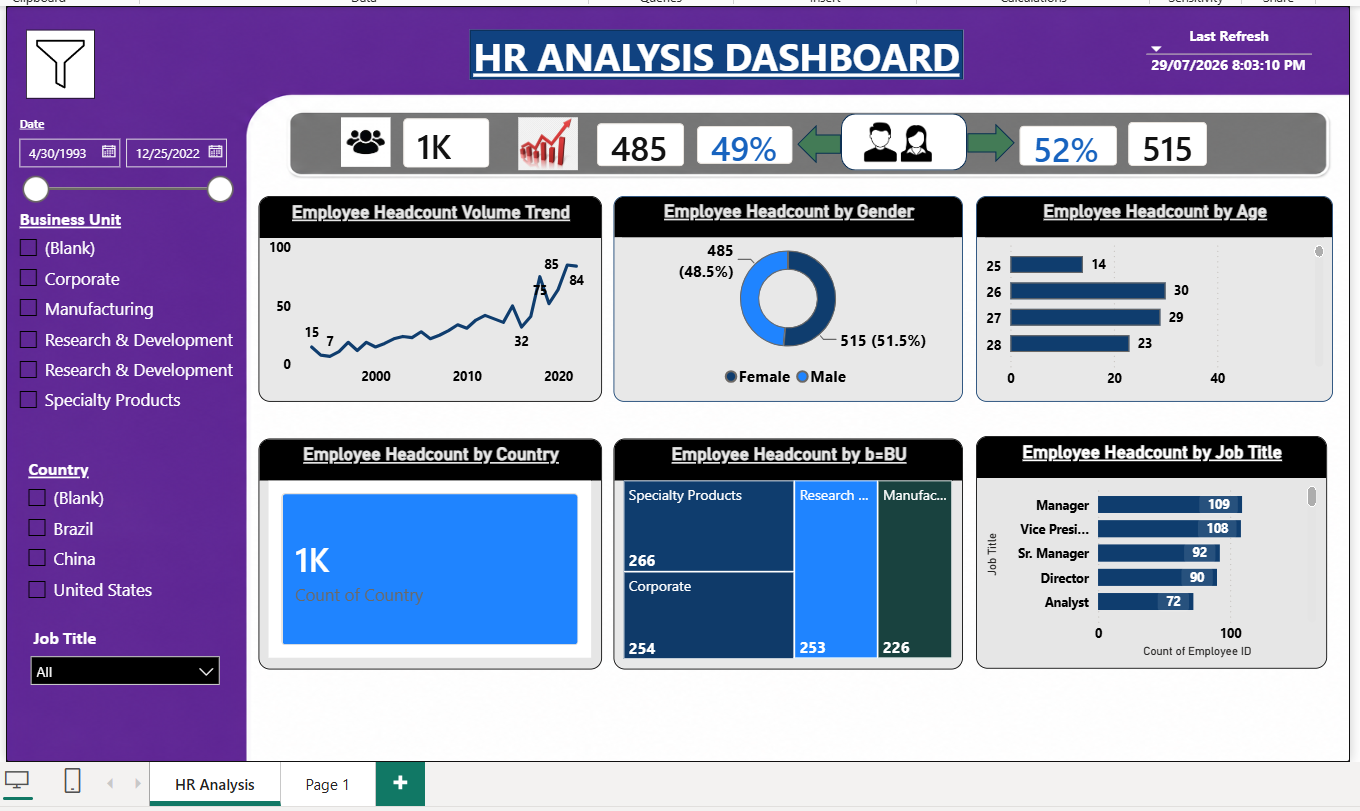

What the dashboard file says about the page in this screenshot:
{"tool":"powerbi","page":{"name":"HR Analysis","canvas":[1280,720],"ordinal":0},"visuals":[{"type":"cardVisual","fields":{"Data":["Employee Data.Total_count"]},"box":[365.7,94.3,108.6,72.9],"z":0},{"type":"image","box":[318.6,98.6,47.1,61.4],"z":1000},{"type":"lineChart","title":"Employee Headcount Volume Trend","fields":{"Category":["Employee Data.Hire Date.Variation.Date Hierarchy.Year"],"Y":["CountNonNull(Employee Data.Employee ID)"]},"box":[240,181.4,327.1,195.7],"z":2000},{"type":"donutChart","title":"Employee Headcount by Gender","fields":{"Category":["Employee Data.Gender"],"Y":["CountNonNull(Employee Data.Employee ID)"]},"box":[578.6,181.4,332.9,195.7],"z":3000},{"type":"clusteredBarChart","title":"Employee Headcount by Age","fields":{"Category":["Employee Data.Age"],"Y":["CountNonNull(Employee Data.Employee ID)"]},"box":[924.3,181.4,340,195.7],"z":4000},{"type":"treemap","title":"Employee Headcount by b=BU","fields":{"Group":["Employee Data.Business Unit"],"Values":["CountNonNull(Employee Data.Employee ID)"]},"box":[578.6,411.4,332.9,220],"z":5000},{"type":"cardVisual","title":"Employee Headcount by Country","fields":{"Data":["CountNonNull(Employee Data.Country)"]},"box":[240,411.4,327.1,220],"z":6000},{"type":"clusteredBarChart","title":"Employee Headcount by Job Title","fields":{"Category":["Employee Data.Job Title"],"Y":["CountNonNull(Employee Data.Employee ID)"]},"box":[924.3,410,334.3,221.4],"z":7000},{"type":"shape","box":[795.7,102.9,120,54.3],"z":8000},{"type":"image","box":[812.9,102.9,72.9,54.3],"z":9000},{"type":"cardVisual","fields":{"Data":["Employee Data.Total_Male_count"]},"box":[550,98.6,109.5,66.7],"z":10000},{"type":"cardVisual","fields":{"Data":["Employee Data.Total_Female_count"]},"box":[1056,97.6,101.8,67.3],"z":11000},{"type":"cardVisual","fields":{"Data":["Employee Data.Male%"]},"box":[645.2,100,117.5,62.5],"z":12000},{"type":"cardVisual","fields":{"Data":["Employee Data.Female%"]},"box":[952.4,101.2,119,63.1],"z":13000},{"type":"shape","box":[441.4,22.9,470,47.5],"z":14000},{"type":"image","box":[465.7,105.7,101.4,50],"z":15000},{"type":"shape","box":[753.6,113.1,41.7,36.9],"z":16000},{"type":"shape","box":[915.5,111.9,45.2,36.9],"z":17000},{"type":"slicer","fields":{"Values":["Employee Data.Business Unit"]},"box":[0,186.9,229.8,225],"z":18000},{"type":"slicer","fields":{"Values":["Employee Data.Job Title"]},"box":[13.1,585.7,200,92.9],"z":19000},{"type":"slicer","fields":{"Values":["Employee Data.Country"]},"box":[8.3,425,216.5,159.8],"z":20000},{"type":"slicer","fields":{"Values":["Employee Data.Hire Date"]},"box":[0,100,225,100],"z":21000},{"type":"tableEx","fields":{"Values":["Query1.Last Refresh"]},"box":[1080,14.3,185.7,61.4],"z":22000},{"type":"image","box":[19,22.6,65.5,65.5],"z":23000}]}

Visuals, with their boxes in screenshot pixels (x1, y1, x2, y2):
cardVisual - Employee Data.Total_count: [x1=383, y1=141, x2=497, y2=218]
image: [x1=334, y1=146, x2=383, y2=210]
"Employee Headcount Volume Trend" lineChart: [x1=251, y1=233, x2=594, y2=438]
"Employee Headcount by Gender" donutChart: [x1=606, y1=233, x2=955, y2=438]
"Employee Headcount by Age" clusteredBarChart: [x1=968, y1=233, x2=1325, y2=438]
"Employee Headcount by b=BU" treemap: [x1=606, y1=474, x2=955, y2=704]
"Employee Headcount by Country" cardVisual: [x1=251, y1=474, x2=594, y2=704]
"Employee Headcount by Job Title" clusteredBarChart: [x1=968, y1=472, x2=1319, y2=704]
shape: [x1=834, y1=150, x2=959, y2=207]
image: [x1=852, y1=150, x2=928, y2=207]
cardVisual - Employee Data.Total_Male_count: [x1=576, y1=146, x2=691, y2=216]
cardVisual - Employee Data.Total_Female_count: [x1=1106, y1=145, x2=1213, y2=215]
cardVisual - Employee Data.Male%: [x1=676, y1=147, x2=799, y2=213]
cardVisual - Employee Data.Female%: [x1=998, y1=149, x2=1123, y2=215]
shape: [x1=463, y1=66, x2=955, y2=116]
image: [x1=488, y1=153, x2=594, y2=206]
shape: [x1=790, y1=161, x2=833, y2=200]
shape: [x1=959, y1=160, x2=1007, y2=198]
slicer - Employee Data.Business Unit: [x1=0, y1=238, x2=241, y2=474]
slicer - Employee Data.Job Title: [x1=14, y1=656, x2=223, y2=754]
slicer - Employee Data.Country: [x1=9, y1=488, x2=236, y2=655]
slicer - Employee Data.Hire Date: [x1=0, y1=147, x2=236, y2=252]
tableEx - Query1.Last Refresh: [x1=1132, y1=57, x2=1326, y2=122]
image: [x1=20, y1=66, x2=89, y2=135]
